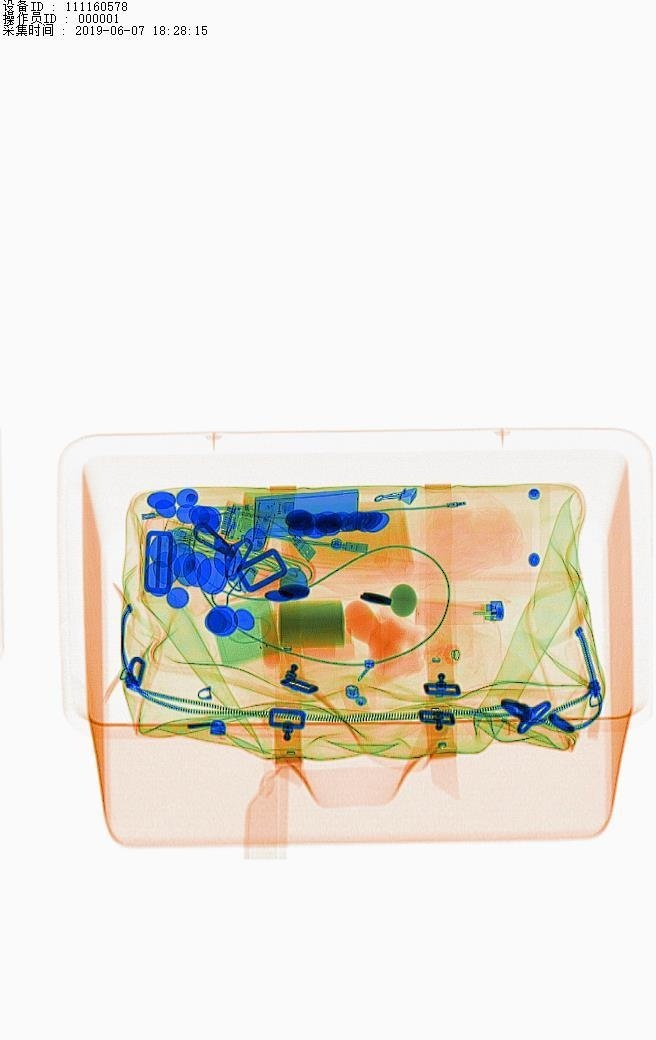NonmetallicFire: (413, 583, 526, 636)
